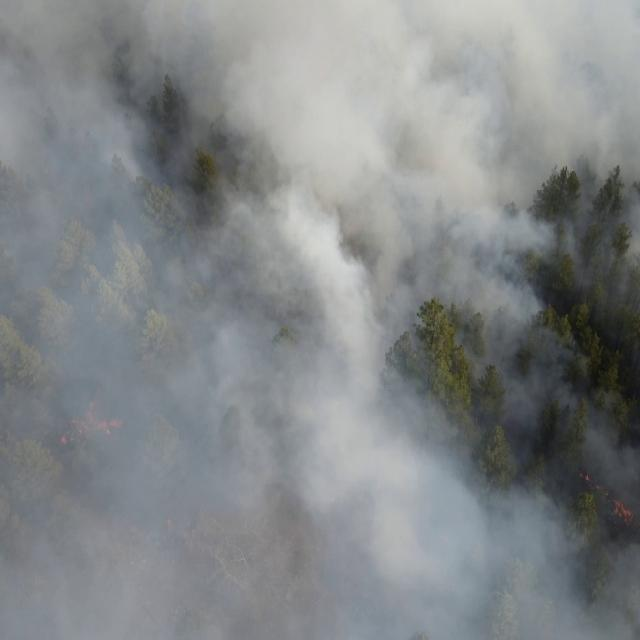fire: (58, 393, 125, 448), (579, 468, 640, 522)
smoke: (0, 0, 640, 640)
